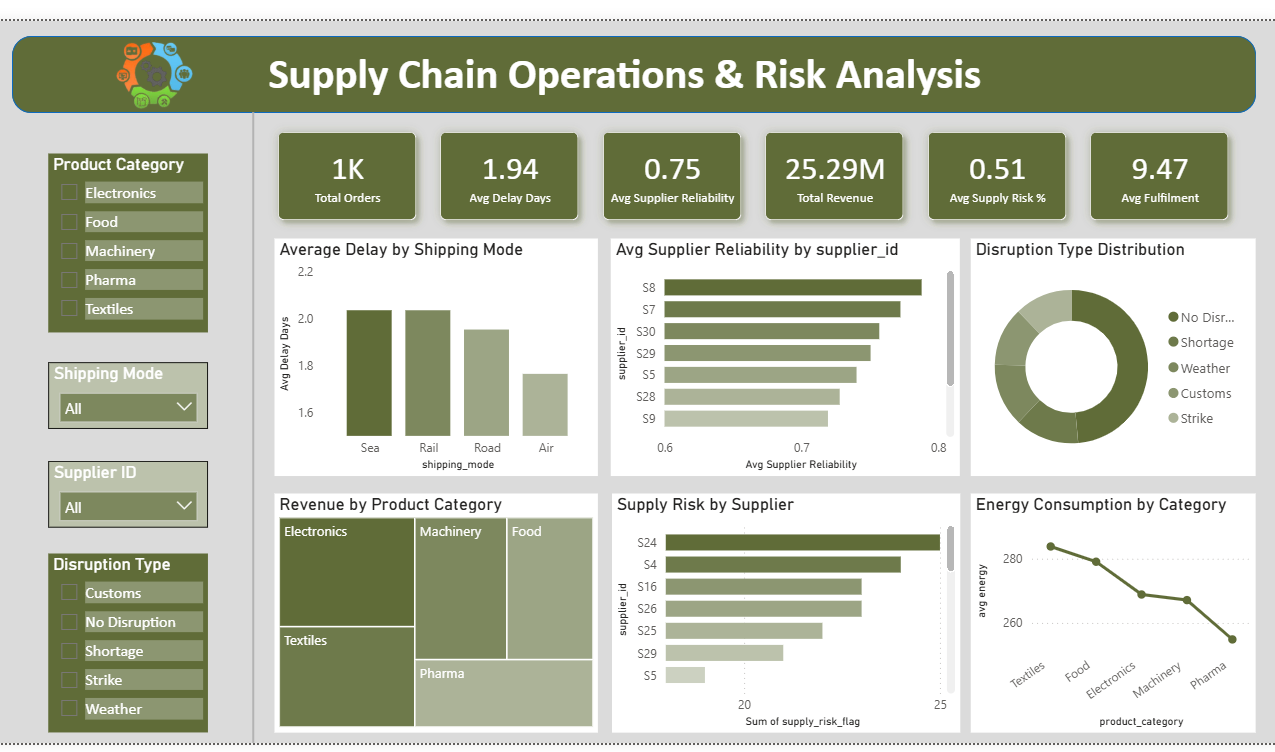

What the dashboard file says about the page in this screenshot:
{"tool":"powerbi","page":{"name":"Page 1","canvas":[1280,720],"ordinal":0},"visuals":[{"type":"shape","box":[20.4,14.7,1240.3,76.9],"z":0},{"type":"textbox","box":[266.8,21.5,728.1,63.3],"z":1000},{"type":"image","box":[115.3,21.5,91.6,66.7],"z":2000},{"type":"shape","box":[254.4,91.6,12.4,628.6],"z":3000},{"type":"cardVisual","fields":{"Data":["supply Chain and risk.Total Orders","supply Chain and risk.Avg Delay Days","supply Chain and risk.Avg Supplier Reliability","supply Chain and risk.Total Revenue","supply Chain and risk.Avg Supply Risk %","supply Chain and risk.Avg Fulfilment"]},"box":[266.7,92.2,984.4,124.6],"z":4000},{"type":"clusteredColumnChart","title":"Average Delay by Shipping Mode","fields":{"Category":["supply Chain and risk.shipping_mode"],"Y":["supply Chain and risk.Avg Delay Days"]},"box":[281.6,216.8,322.7,236.8],"z":5000},{"type":"clusteredBarChart","title":"Top Supplier by Reliability ","fields":{"Category":["supply Chain and risk.supplier_id"],"Y":["supply Chain and risk.Avg Supplier Reliability"]},"box":[616.8,216.8,347.7,236.8],"z":6000},{"type":"donutChart","title":" Disruption Type Distribution","fields":{"Category":["supply Chain and risk.disruption_type"],"Y":["CountNonNull(supply Chain and risk.order_id)"]},"box":[975.7,216.8,284.1,236.8],"z":7000},{"type":"treemap","title":"Revenue by Product Category","fields":{"Group":["supply Chain and risk.product_category"],"Values":["Sum(supply Chain and risk.order_value_usd)"]},"box":[281.6,471,322.7,238],"z":8000},{"type":"barChart","title":"Top Risk Supplier","fields":{"Y":["Sum(supply Chain and risk.supply_risk_flag)"],"Category":["supply Chain and risk.supplier_id"]},"box":[618.3,470.8,347.1,238.4],"z":9000},{"type":"lineChart","title":"Energy Consumption by Category","fields":{"Y":["supply Chain and risk.avg energy"],"Category":["supply Chain and risk.product_category"]},"box":[975.7,471,284.1,238],"z":10000},{"type":"slicer","title":"Product Category","fields":{"Values":["supply Chain and risk.product_category"]},"box":[56.1,132.1,159.5,178.2],"z":10001},{"type":"slicer","title":"Supplier ID","fields":{"Values":["supply Chain and risk.supplier_id"]},"box":[56.1,438.6,159.5,66],"z":10002},{"type":"slicer","title":"Shipping Mode","fields":{"Values":["supply Chain and risk.shipping_mode"]},"box":[56.1,340.2,159.5,66],"z":10003},{"type":"slicer","title":"Disruption Type","fields":{"Values":["supply Chain and risk.disruption_type"]},"box":[56.1,530.8,159.5,178.2],"z":10005}]}

Visuals, with their boxes on the page's 1280x720 design canvas (x1, y1, x2, y2). These are canvas units, not pixel positions in the 1275x752 screenshot, which may show the page scaled, cropped or inside an application window:
shape: box=[20, 15, 1261, 92]
textbox: box=[267, 22, 995, 85]
image: box=[115, 22, 207, 88]
shape: box=[254, 92, 267, 720]
cardVisual - supply Chain and risk.Total Orders x supply Chain and risk.Avg Delay Days: box=[267, 92, 1251, 217]
"Average Delay by Shipping Mode" clusteredColumnChart: box=[282, 217, 604, 454]
"Top Supplier by Reliability " clusteredBarChart: box=[617, 217, 964, 454]
" Disruption Type Distribution" donutChart: box=[976, 217, 1260, 454]
"Revenue by Product Category" treemap: box=[282, 471, 604, 709]
"Top Risk Supplier" barChart: box=[618, 471, 965, 709]
"Energy Consumption by Category" lineChart: box=[976, 471, 1260, 709]
"Product Category" slicer: box=[56, 132, 216, 310]
"Supplier ID" slicer: box=[56, 439, 216, 505]
"Shipping Mode" slicer: box=[56, 340, 216, 406]
"Disruption Type" slicer: box=[56, 531, 216, 709]
